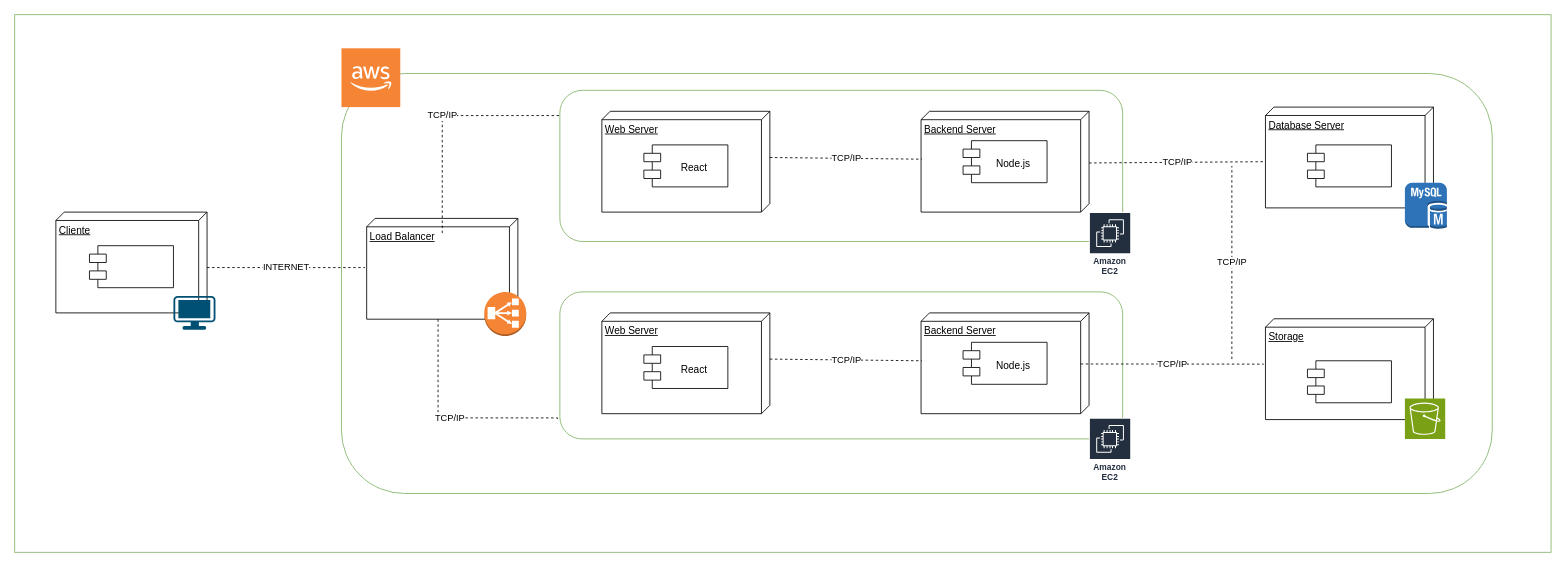
Image size: 1566x567. Some labels were removed from this diagram. The shapes that lost their labels are listed below. From the top down, each one's centre as x and y in pixels, then its label:
At point (1349, 165): "MySQL".
At point (131, 266): "WEB Browser".
At point (1349, 381): "AWS S3".
